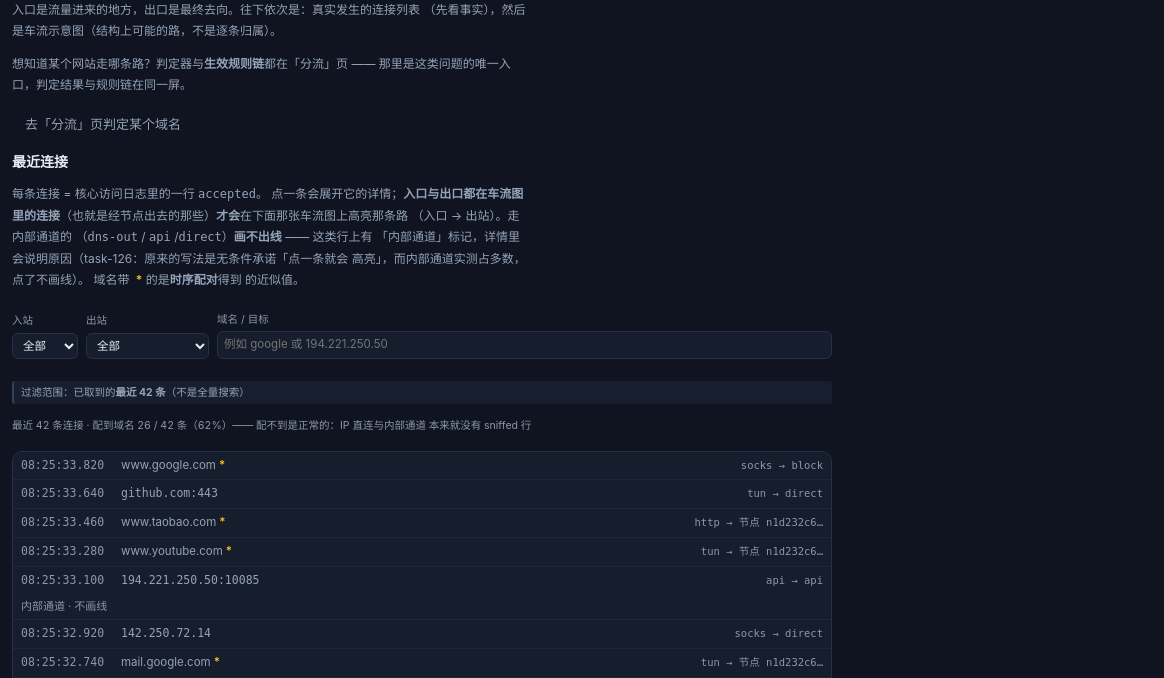
Scenario: 0.9.0 · F3 拓扑页 `Esc` 关闭连接详情（UX C5） › 选中一条连接后按 Esc ⇒ 详情面板关闭
The width and height of the screenshot is (1164, 678).
Click the list item with class "conn-row" that starts with "www.google.com" at (63, 465), box 13,452 -> 831,480
(page scrolled)
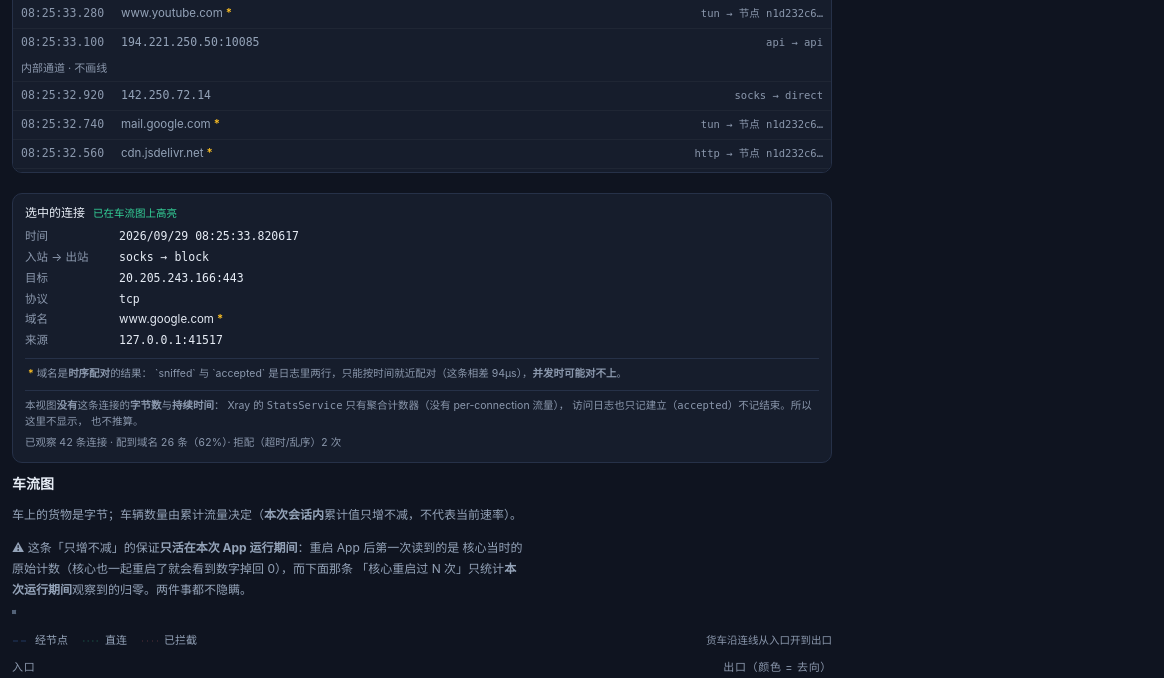
Now the element with class "conn-detail" is shown, box 12,193 -> 832,463
Press Escape
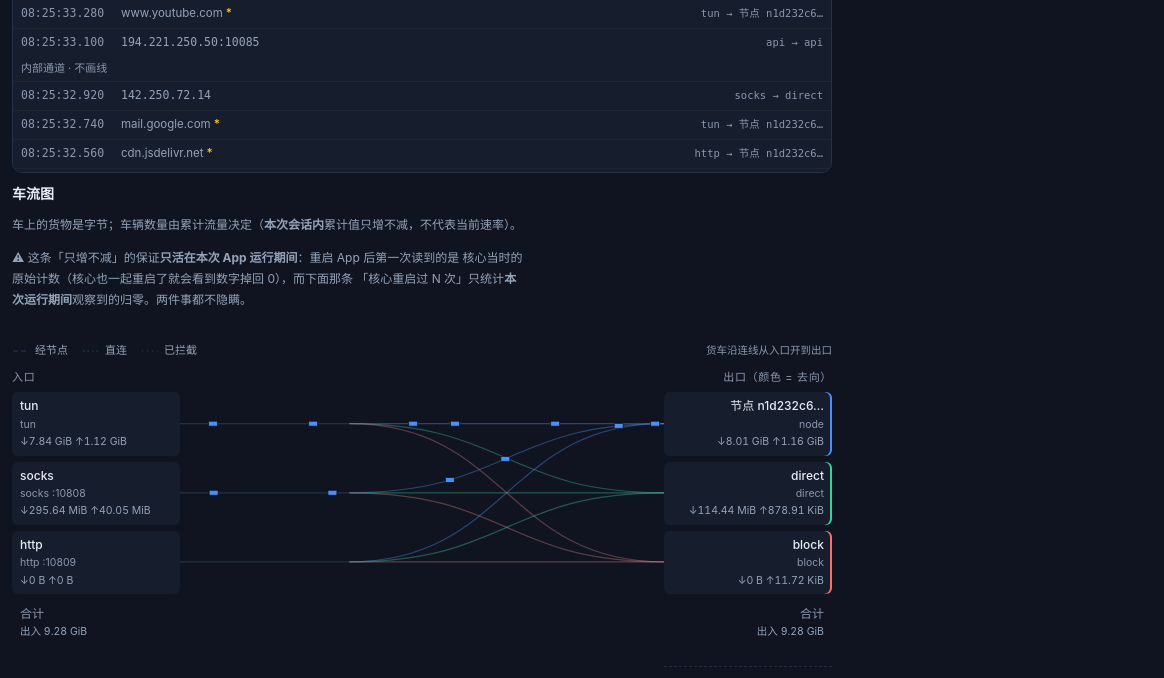
Now the element with class "conn-detail" is gone
